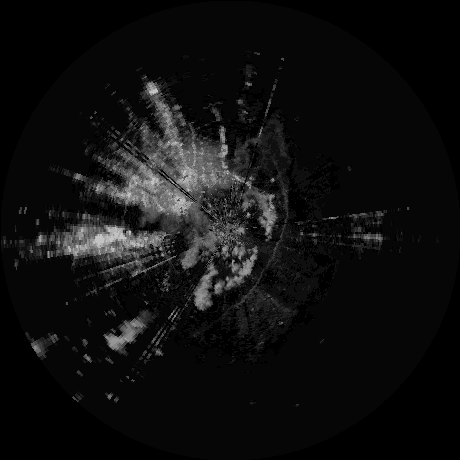frontgust: (277, 162, 292, 249), (255, 252, 277, 287)
